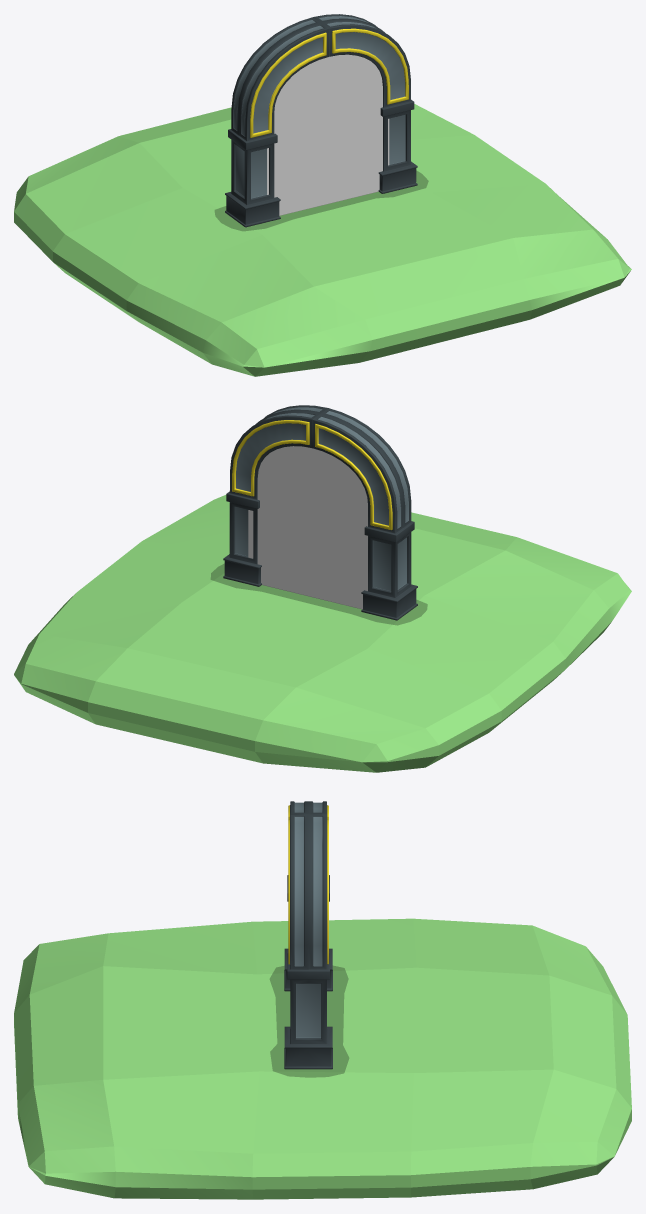
The model's file is FogDoor.glb.
The picture shows the model from 3 angles, top to bottom: view 1: azimuth 30°, elevation 25°; view 2: azimuth 150°, elevation 25°; view 3: azimuth 270°, elevation 25°; orthographic projection. The views are drawn at different scales.
Visible parts, largest first — view 1: Floor, Cube.001, FogDoor, Plane.001; view 2: Floor, Cube.001, FogDoor, Plane.001; view 3: Floor, Cube.001, Plane.001.
Part boxes in pixels (x1,y1,x2,y2): Floor: (14, 104, 631, 376); Cube.001: (225, 14, 417, 227); FogDoor: (267, 54, 389, 215); Plane.001: (215, 171, 428, 230); Floor: (14, 495, 631, 772); Cube.001: (223, 405, 417, 620); FogDoor: (248, 446, 367, 609); Plane.001: (211, 564, 427, 625); Floor: (14, 918, 631, 1199); Cube.001: (284, 801, 332, 1069); Plane.001: (270, 966, 348, 1077).
Bounding box in the file's own units: 5.09 × 2.76 × 5.34.
Materials: 3 (1 with a texture image).
